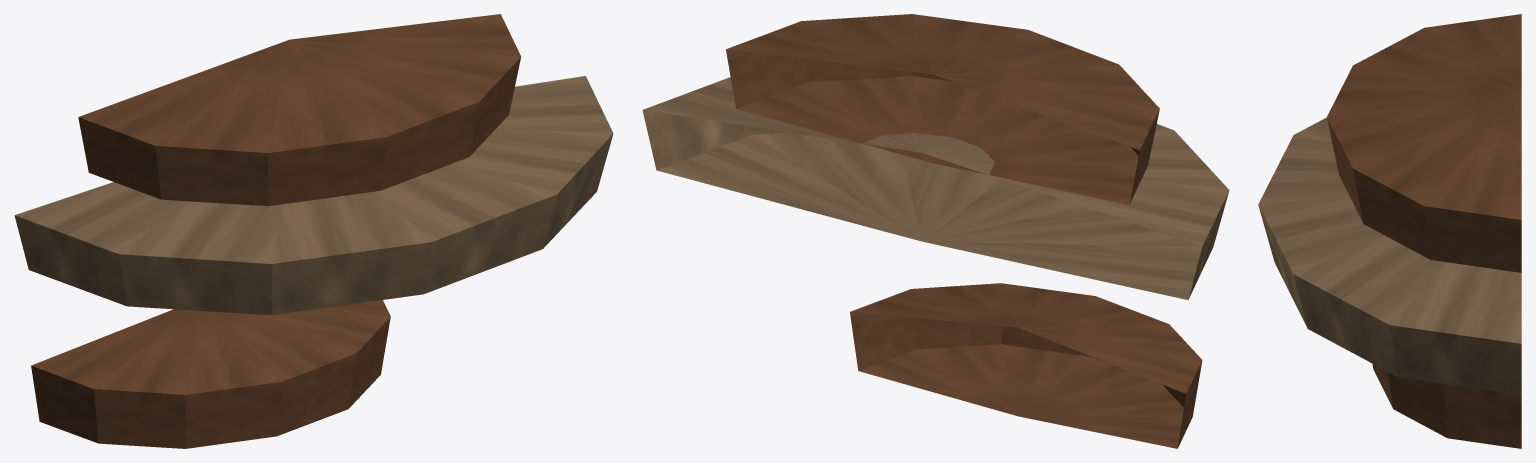
File: Mushroom_Bracket_1_LOD1.gltf
The picture shows the model from 3 angles, left to right: view 1: azimuth 30°, elevation 25°; view 2: azimuth 150°, elevation 25°; view 3: azimuth 270°, elevation 25°; orthographic projection. The views are drawn at different scales.
Visible parts, largest first — view 1: Mushroom_Bracket_1_LOD1; view 2: Mushroom_Bracket_1_LOD1; view 3: Mushroom_Bracket_1_LOD1.
Boxes of the visible parts, box(x1,y1,x2,y2) form: Mushroom_Bracket_1_LOD1: box(14, 14, 613, 448); Mushroom_Bracket_1_LOD1: box(642, 14, 1229, 448); Mushroom_Bracket_1_LOD1: box(1258, 14, 1521, 448).
Size of the model in its own units: 0.462 by 0.2531 by 0.1848.
Materials: 2 (2 with a texture image).
